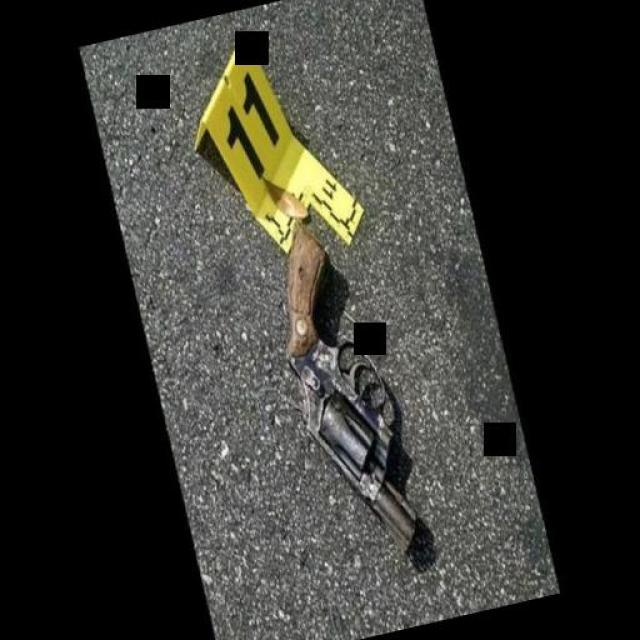gun: (238, 201, 447, 584)
